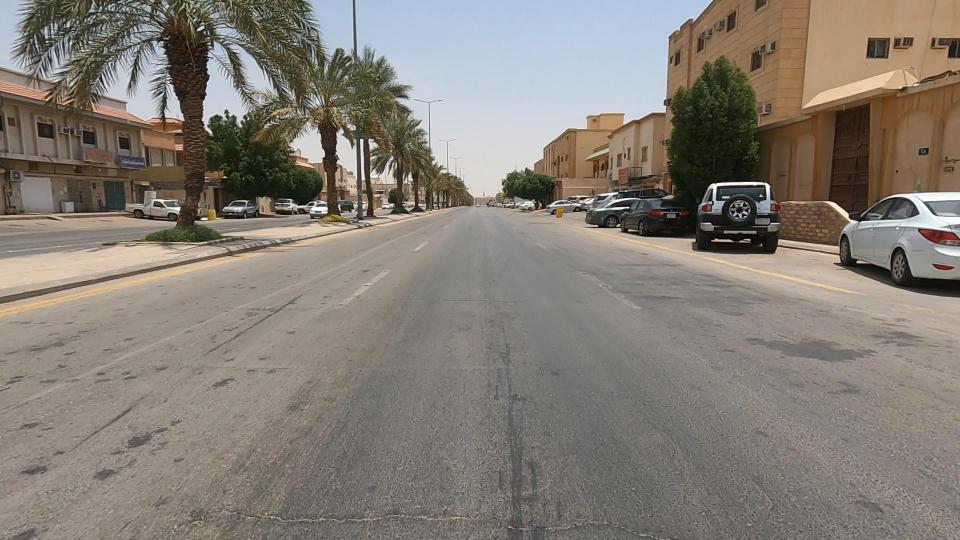BAD_BILLBOARD: (49, 133, 142, 182), (598, 153, 667, 193)
